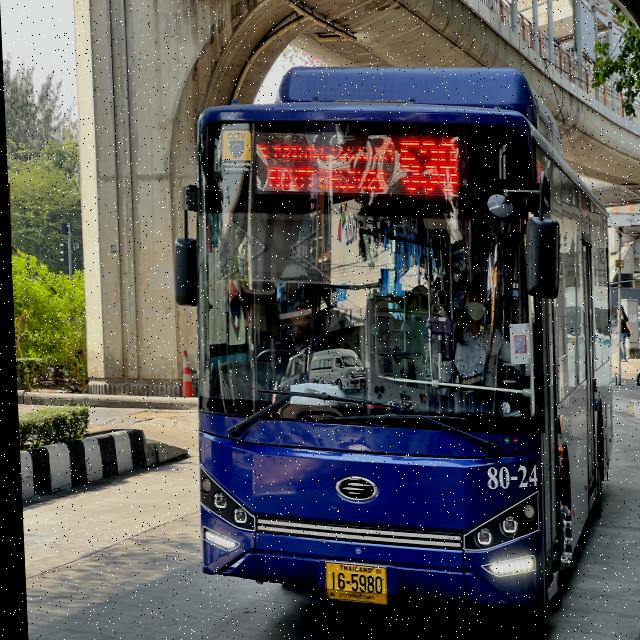Bus Line Number: (396, 125, 464, 203)
Bus Side Number: (475, 463, 539, 492)
Destination Sign: (252, 127, 394, 202)
TSB-Bus: (186, 68, 610, 611)
